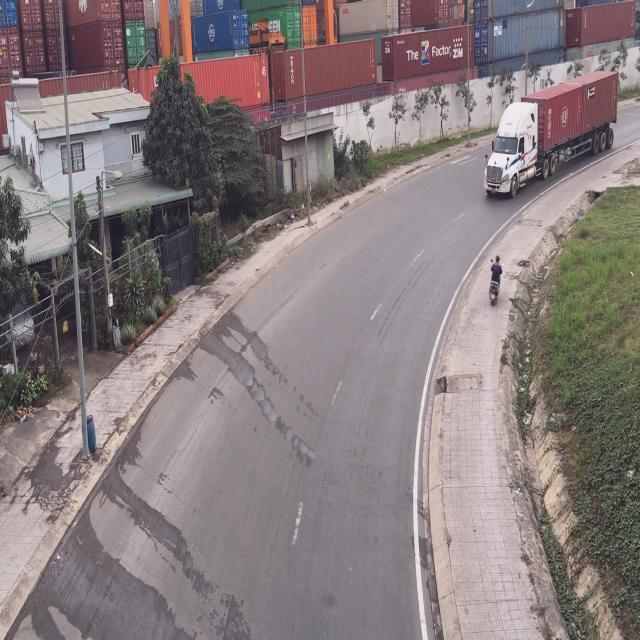motorbike: (489, 255, 502, 303)
truck: (484, 76, 620, 201)
